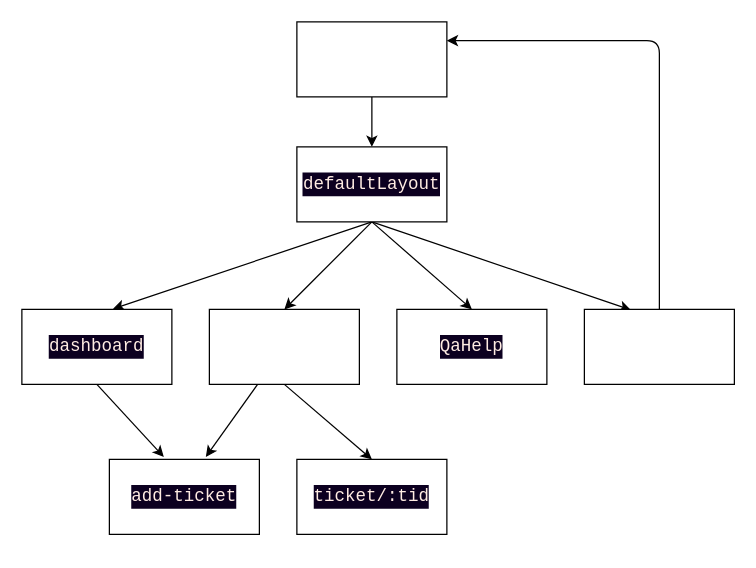
Image size: 756x568. Some labels were removed from this diagram. Here are the shapes that lost their labels. From the top down, the box of each, then its label:
(296, 21, 447, 97): login page
(208, 308, 359, 384): tickets
(583, 308, 734, 384): logout
